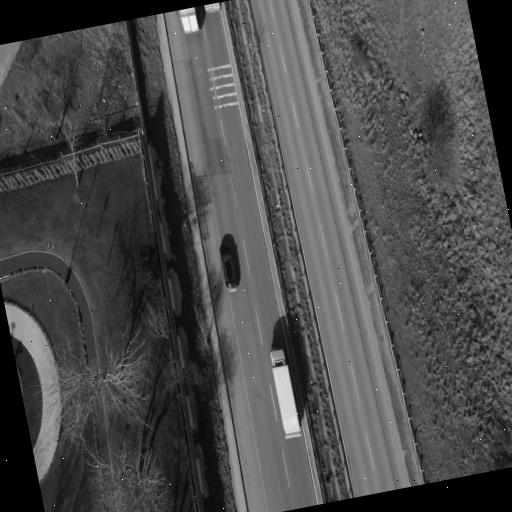UAI: (270, 348, 300, 439), (178, 7, 198, 34), (179, 7, 198, 34), (204, 3, 219, 12)
person: (219, 242, 237, 291)
